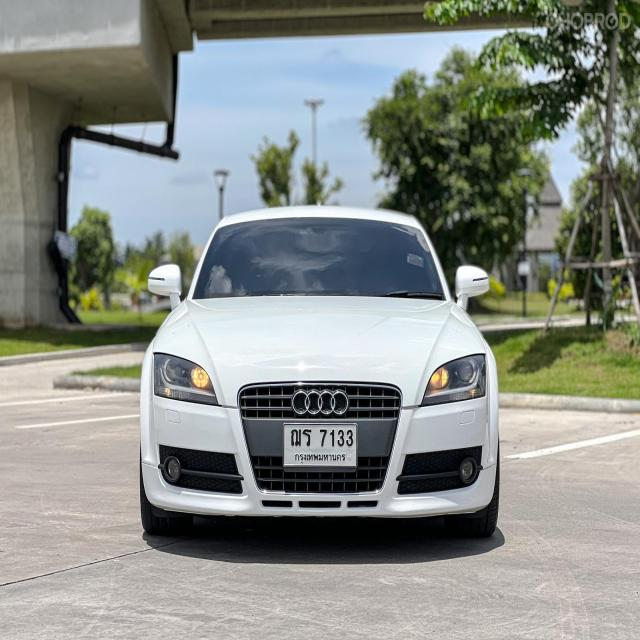license_plate: (281, 419, 361, 469)
